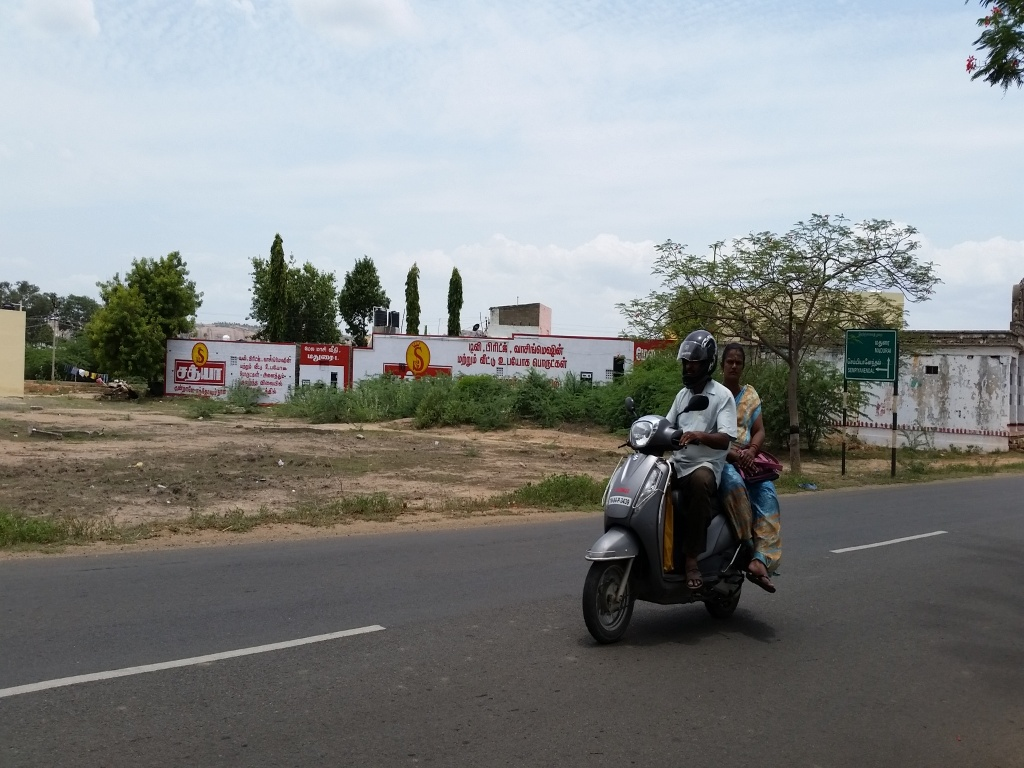biker: (566, 297, 798, 657)
helmet: (670, 323, 721, 395)
nohelmet: (720, 337, 753, 393)
